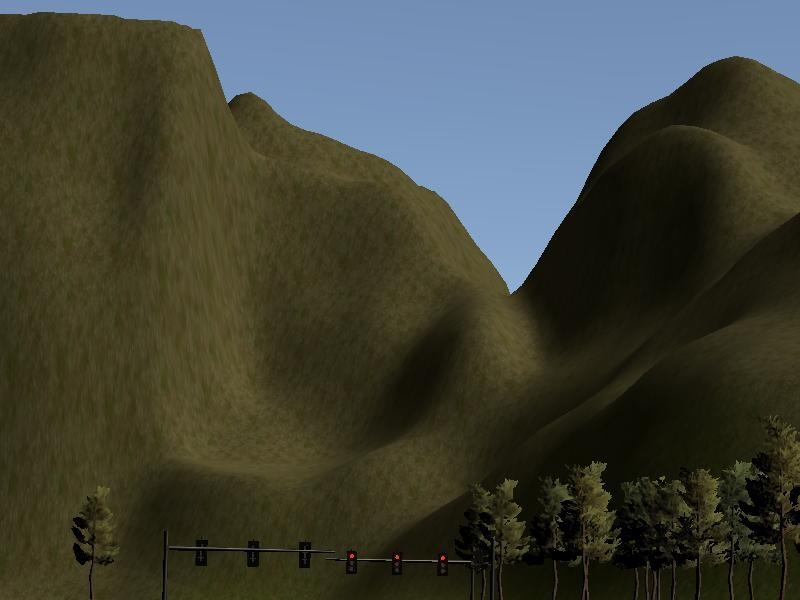red: (389, 549, 403, 578), (344, 549, 358, 576), (435, 551, 448, 577)
